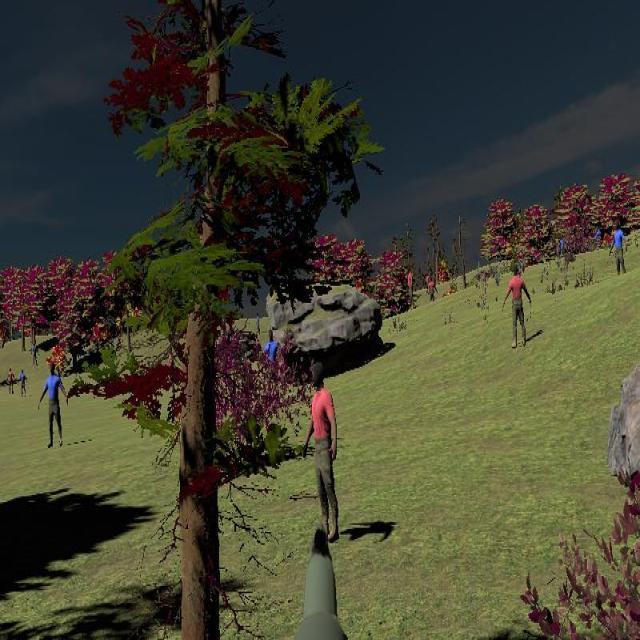Human: (304, 361, 340, 543), (38, 363, 68, 448), (503, 263, 531, 349), (610, 219, 627, 283)
